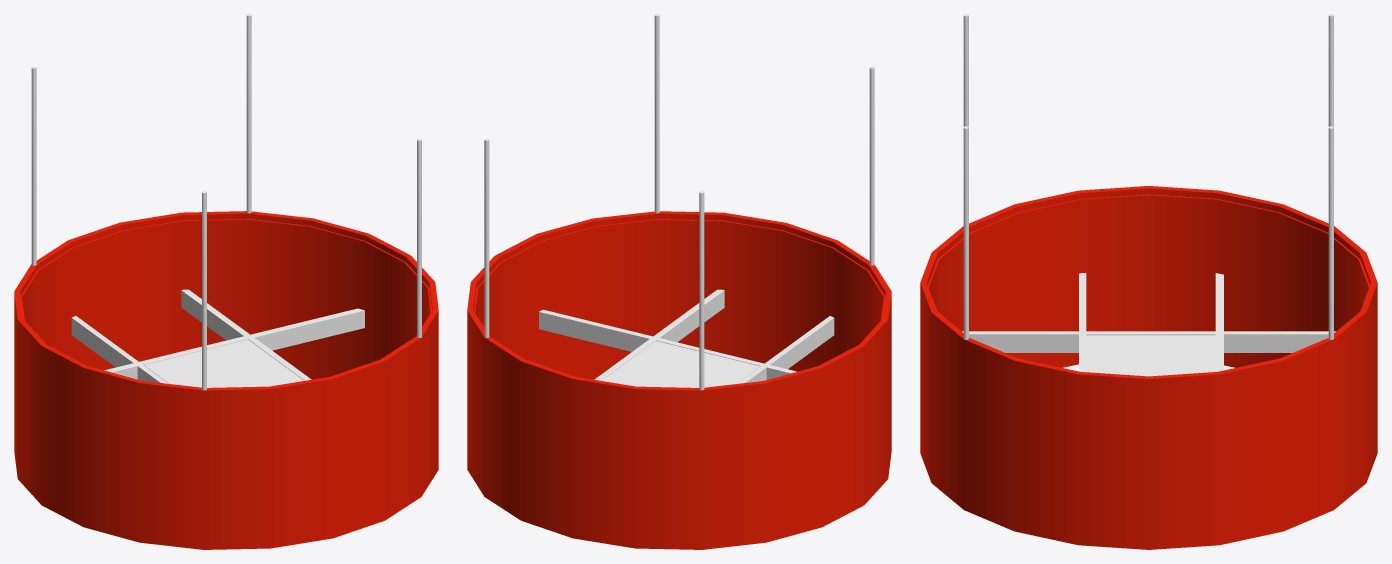
Rendered from Luster.FBX.
3 views of the same model, side by side, from view 1: azimuth 30°, elevation 25°; view 2: azimuth 150°, elevation 25°; view 3: azimuth 270°, elevation 25° (orthographic). The views are drawn at different scales.
Visible parts, largest first — view 1: Lustertexture, Glow, LusterBase, lamp; view 2: Lustertexture, Glow, LusterBase, lamp; view 3: Lustertexture, Glow, LusterBase, lamp.
Boxes of the visible parts, bbox=[...] form: Lustertexture: bbox=[14, 211, 438, 549]; Glow: bbox=[20, 219, 432, 378]; LusterBase: bbox=[31, 14, 421, 390]; lamp: bbox=[144, 339, 304, 387]; Lustertexture: bbox=[467, 211, 891, 549]; Glow: bbox=[474, 219, 885, 378]; LusterBase: bbox=[484, 14, 874, 390]; lamp: bbox=[602, 341, 760, 387]; Lustertexture: bbox=[920, 186, 1377, 549]; Glow: bbox=[928, 194, 1369, 366]; LusterBase: bbox=[962, 14, 1335, 372]; lamp: bbox=[1086, 335, 1215, 376].
Bounding box in the file's own units: 43.9 × 40.47 × 43.9.
